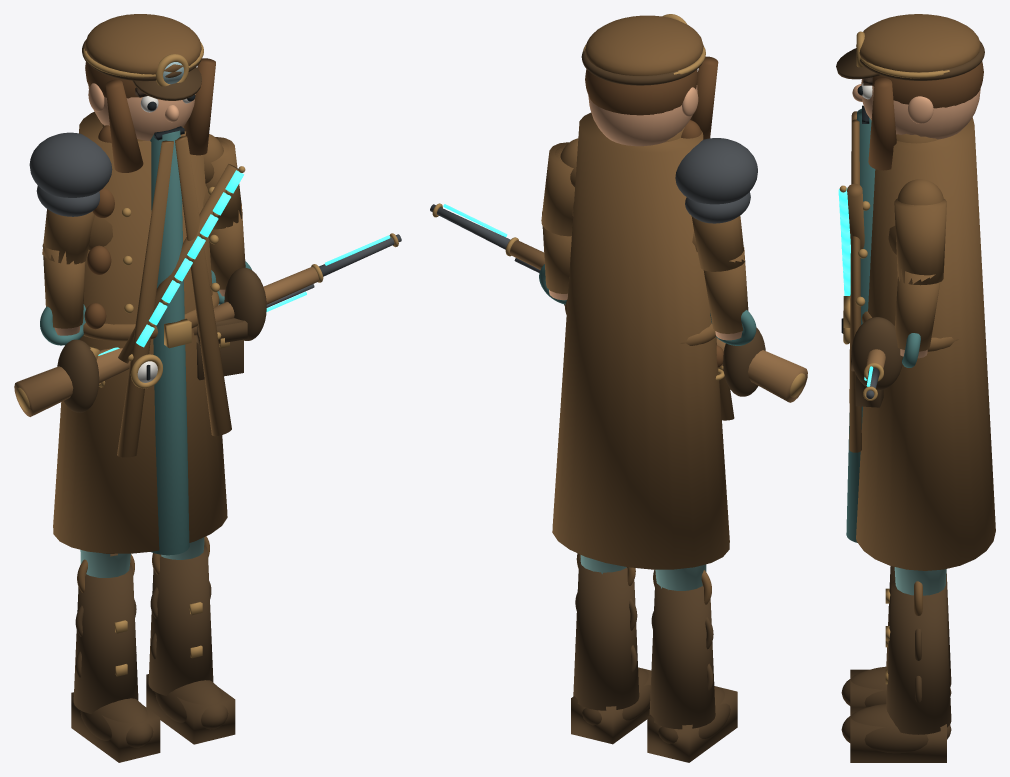
Rendered from 3D模型 char_musketeer.glb.
The picture shows the model from 3 angles, left to right: view 1: azimuth 30°, elevation 25°; view 2: azimuth 150°, elevation 25°; view 3: azimuth 270°, elevation 25°; orthographic projection.
Parts seen in each view (by area): view 1: char_musketeer_coat, char_musketeer_lining, char_musketeer_boot_R, char_musketeer_boot_L, char_musketeer_capcrown, char_musketeer_lapel1, char_musketeer_lapel0, char_musketeer_pauldron, char_musketeer_cslv2_L, char_musketeer_stock, char_musketeer_lock0, char_musketeer_foot_L (+22 smaller); view 2: char_musketeer_coat, char_musketeer_boot_R, char_musketeer_boot_L, char_musketeer_capcrown, char_musketeer_pauldron, char_musketeer_hair, char_musketeer_head, char_musketeer_cslv2_L, char_musketeer_foot_L, char_musketeer_cslv_R, char_musketeer_cslv_L, char_musketeer_stock (+10 smaller); view 3: char_musketeer_coat, char_musketeer_boot_R, char_musketeer_capcrown, char_musketeer_cslv_R, char_musketeer_lining, char_musketeer_cslv2_R, char_musketeer_lapel1, char_musketeer_hair, char_musketeer_hand_R, char_musketeer_head, char_musketeer_foot_R, char_musketeer_bfoot_R (+16 smaller).
Boxes of the visible parts, bbox=[...] form: char_musketeer_coat: bbox=[53, 111, 227, 553]; char_musketeer_lining: bbox=[150, 130, 189, 555]; char_musketeer_boot_R: bbox=[148, 546, 213, 695]; char_musketeer_boot_L: bbox=[73, 564, 138, 713]; char_musketeer_capcrown: bbox=[85, 14, 201, 74]; char_musketeer_lapel1: bbox=[175, 136, 231, 436]; char_musketeer_lapel0: bbox=[117, 140, 173, 457]; char_musketeer_pauldron: bbox=[29, 132, 112, 197]; char_musketeer_cslv2_L: bbox=[42, 244, 85, 328]; char_musketeer_stock: bbox=[14, 348, 130, 416]; char_musketeer_lock0: bbox=[105, 79, 143, 172]; char_musketeer_foot_L: bbox=[71, 692, 160, 762]; char_musketeer_coat: bbox=[552, 112, 729, 569]; char_musketeer_boot_R: bbox=[573, 558, 639, 710]; char_musketeer_boot_L: bbox=[649, 578, 715, 729]; char_musketeer_capcrown: bbox=[585, 15, 703, 75]; char_musketeer_pauldron: bbox=[675, 138, 757, 204]; char_musketeer_hair: bbox=[585, 69, 697, 115]; char_musketeer_head: bbox=[588, 85, 697, 146]; char_musketeer_cslv2_L: bbox=[703, 247, 748, 333]; char_musketeer_foot_L: bbox=[647, 686, 737, 762]; char_musketeer_cslv_R: bbox=[541, 142, 574, 236]; char_musketeer_cslv_L: bbox=[691, 216, 745, 271]; char_musketeer_stock: bbox=[716, 338, 807, 402]; char_musketeer_coat: bbox=[856, 117, 995, 570]; char_musketeer_boot_R: bbox=[886, 580, 951, 734]; char_musketeer_capcrown: bbox=[856, 14, 980, 72]; char_musketeer_cslv_R: bbox=[894, 198, 946, 285]; char_musketeer_lining: bbox=[846, 108, 875, 542]; char_musketeer_cslv2_R: bbox=[894, 269, 940, 351]; char_musketeer_lapel1: bbox=[849, 119, 861, 452]; char_musketeer_hair: bbox=[872, 61, 983, 108]; char_musketeer_hand_R: bbox=[851, 317, 902, 390]; char_musketeer_head: bbox=[861, 79, 980, 139]; char_musketeer_foot_R: bbox=[850, 706, 946, 762]; char_musketeer_bfoot_R: bbox=[841, 704, 951, 753].
Bounding box in the file's own units: 0.9908 × 1.78 × 0.3639.
